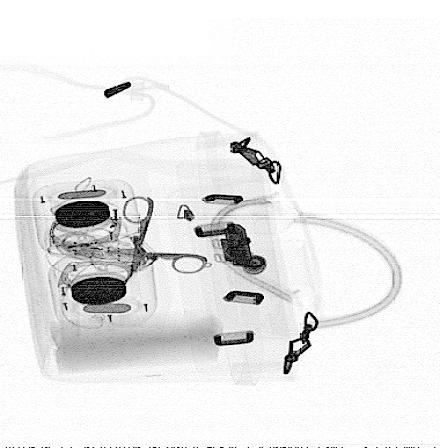Scissors: (101, 195, 212, 279)
